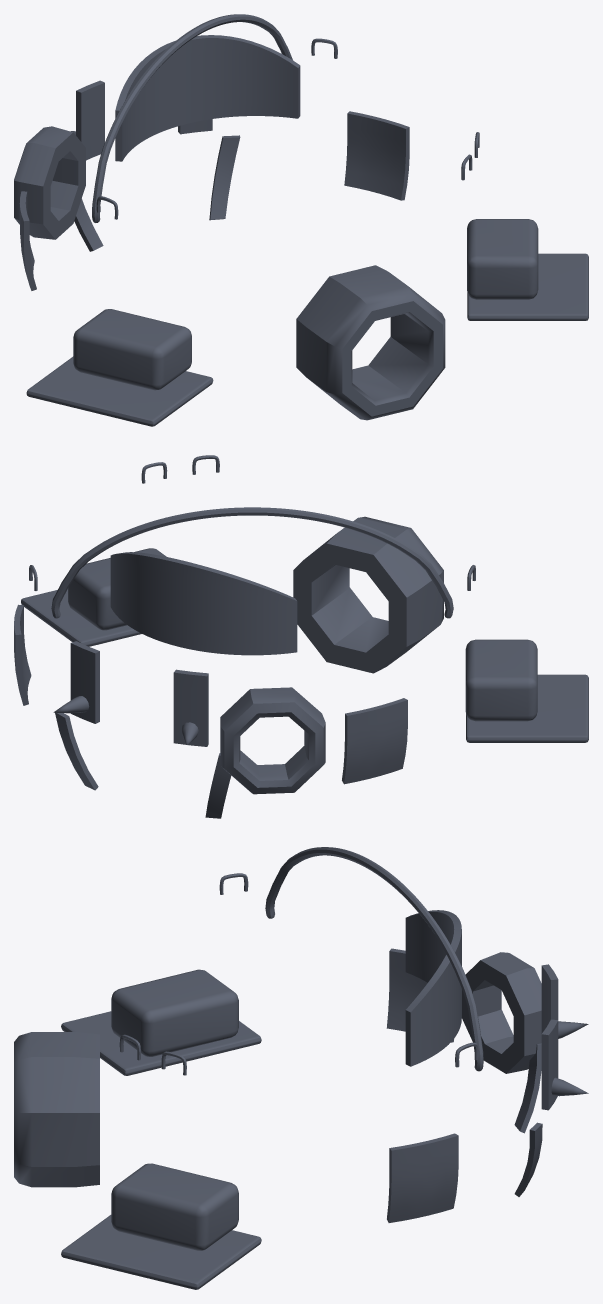
The model's file is EM_Metal.obj.
3 views of the same model, one above another, from view 1: azimuth 30°, elevation 25°; view 2: azimuth 150°, elevation 25°; view 3: azimuth 270°, elevation 25° (orthographic). The views are drawn at different scales.
Parts seen in each view (by area): view 1: EM_Metal; view 2: EM_Metal; view 3: EM_Metal.
Boxes of the visible parts, x1=… form: EM_Metal: x1=14, y1=14, x2=588, y2=426; EM_Metal: x1=14, y1=455, x2=588, y2=818; EM_Metal: x1=14, y1=847, x2=588, y2=1289.
Size of the model in its own units: 10.91 by 4.94 by 9.01.
